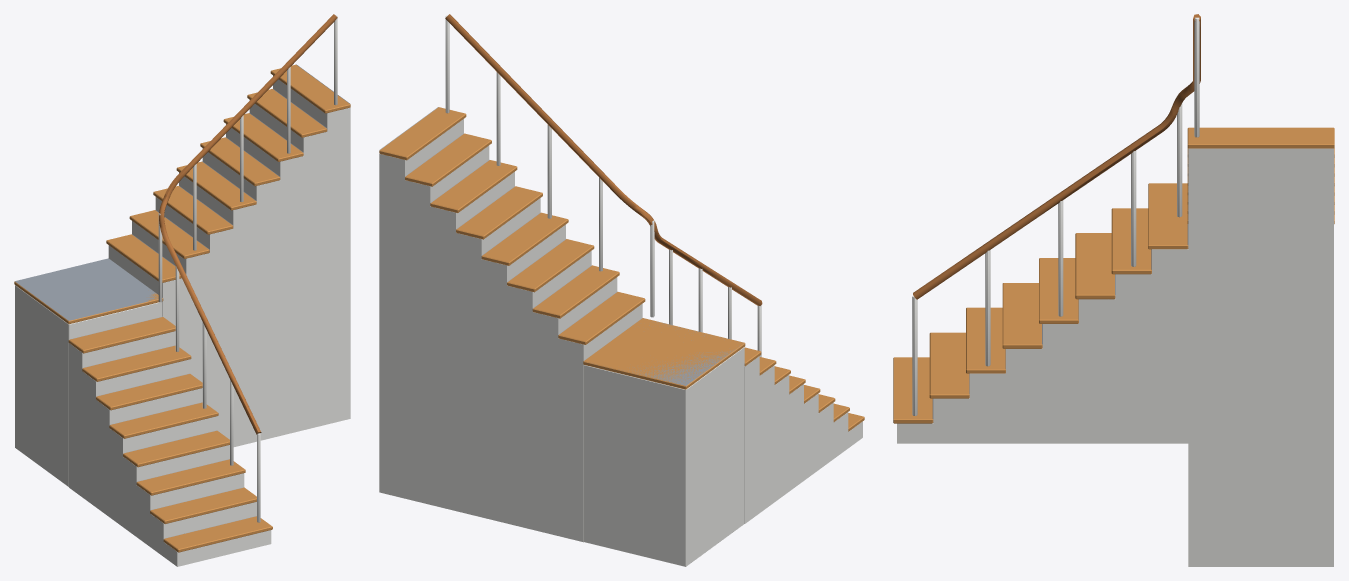
The model's file is escada_l_dir.glb.
3 views of the same model, side by side, from view 1: azimuth 30°, elevation 25°; view 2: azimuth 150°, elevation 25°; view 3: azimuth 270°, elevation 25° (orthographic). The views are drawn at different scales.
Visible parts, largest first — view 1: escada_l_dir, colisao_malha; view 2: escada_l_dir, colisao_malha; view 3: escada_l_dir.
Part boxes in pixels (<box>): escada_l_dir: <box>14,14,350,566</box>; colisao_malha: <box>15,64,350,538</box>; escada_l_dir: <box>379,14,864,566</box>; colisao_malha: <box>379,107,739,385</box>; escada_l_dir: <box>893,14,1334,566</box>.
Bounding box in the file's own units: 3 × 4.12 × 3.03.
1 material, 1 textured.
